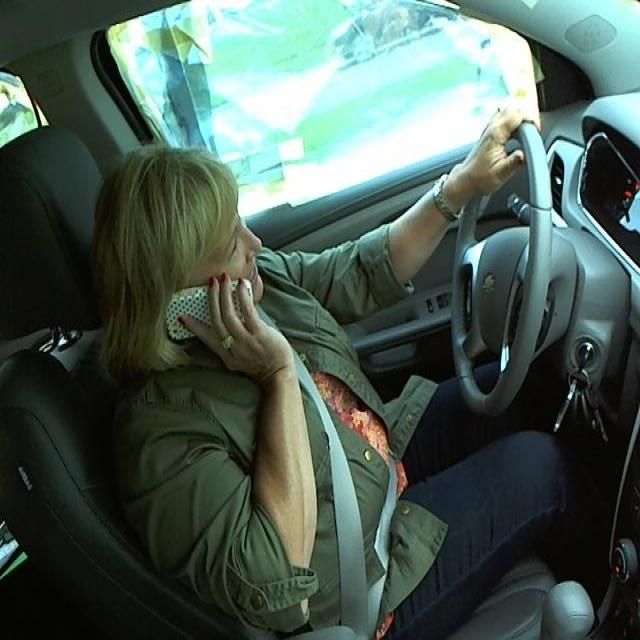using_phone: (76, 154, 302, 379)
